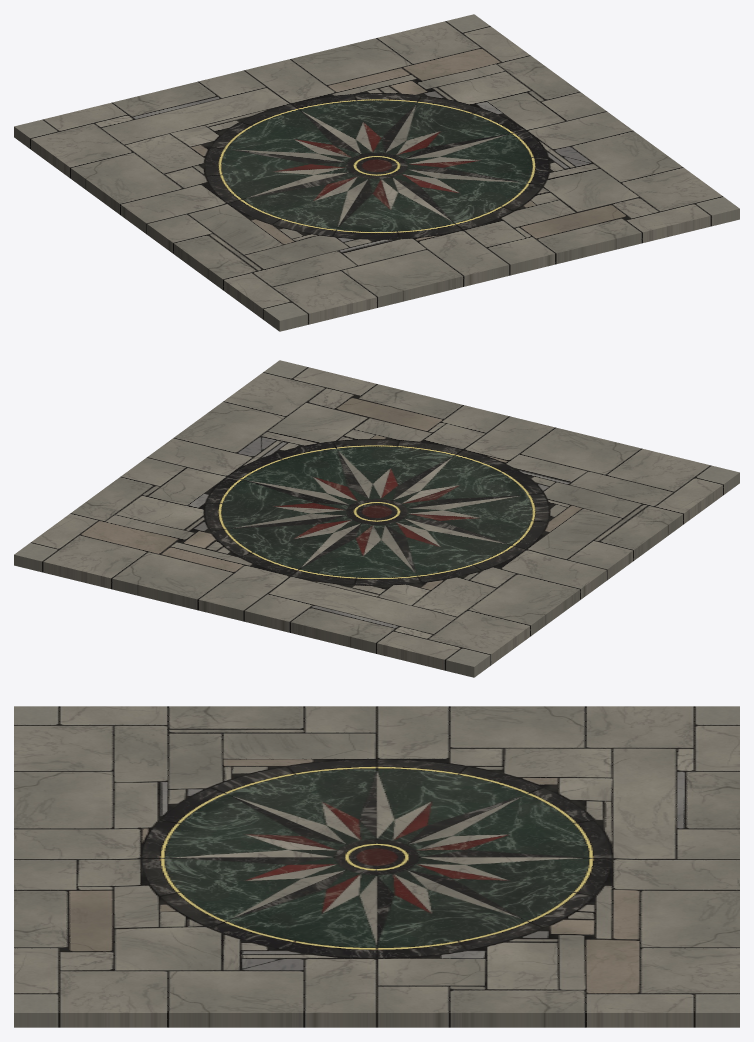
Rendered from cathedral_floor_c.glb.
3 views of the same model, one above another, from view 1: azimuth 30°, elevation 25°; view 2: azimuth 150°, elevation 25°; view 3: azimuth 270°, elevation 25° (orthographic). The views are drawn at different scales.
Parts seen in each view (by area): view 1: cathedral_floor_c; view 2: cathedral_floor_c; view 3: cathedral_floor_c.
Part boxes in pixels (bbox=[...]): cathedral_floor_c: bbox=[14, 14, 739, 331]; cathedral_floor_c: bbox=[14, 360, 739, 677]; cathedral_floor_c: bbox=[14, 706, 739, 1027].
Bounding box in the file's own units: 4 × 0.1055 × 4.
Materials: 1 (1 with a texture image).
